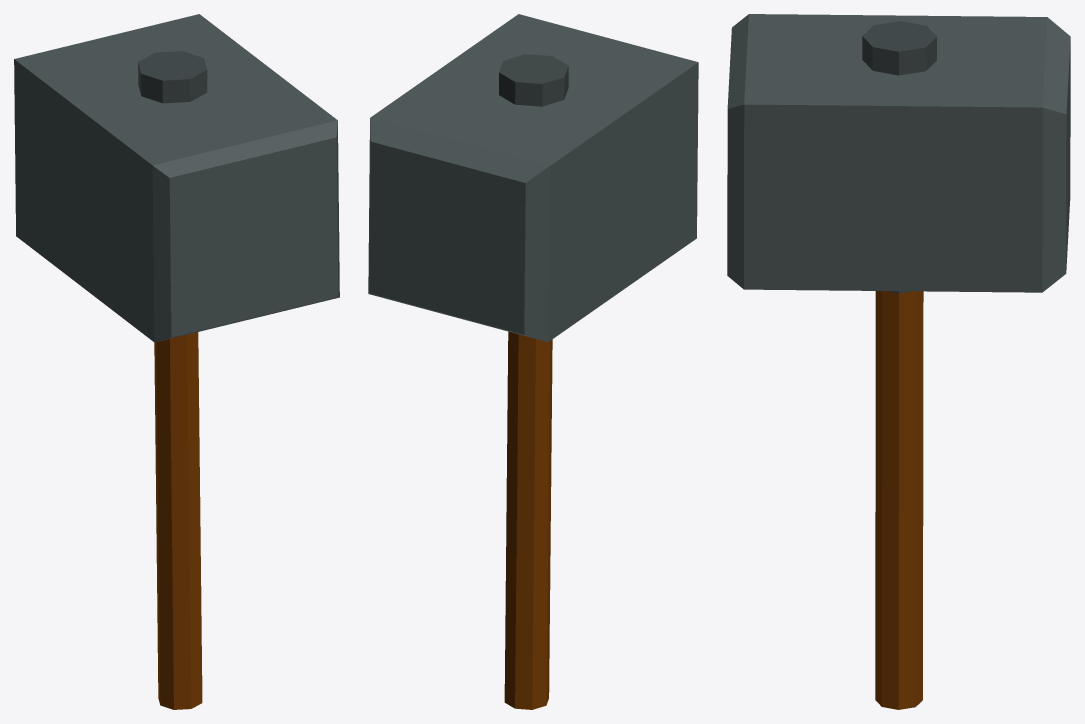
File: Hammer2.fbx
3 views of the same model, side by side, from view 1: azimuth 30°, elevation 25°; view 2: azimuth 150°, elevation 25°; view 3: azimuth 270°, elevation 25° (orthographic). The views are drawn at different scales.
Visible parts, largest first — view 1: hammer; view 2: hammer; view 3: hammer.
Boxes of the visible parts, x1=… form: hammer: x1=14, y1=14, x2=339, y2=709; hammer: x1=368, y1=14, x2=698, y2=709; hammer: x1=727, y1=14, x2=1070, y2=709.
Size of the model in its own units: 0.1945 by 0.2928 by 0.6216.
